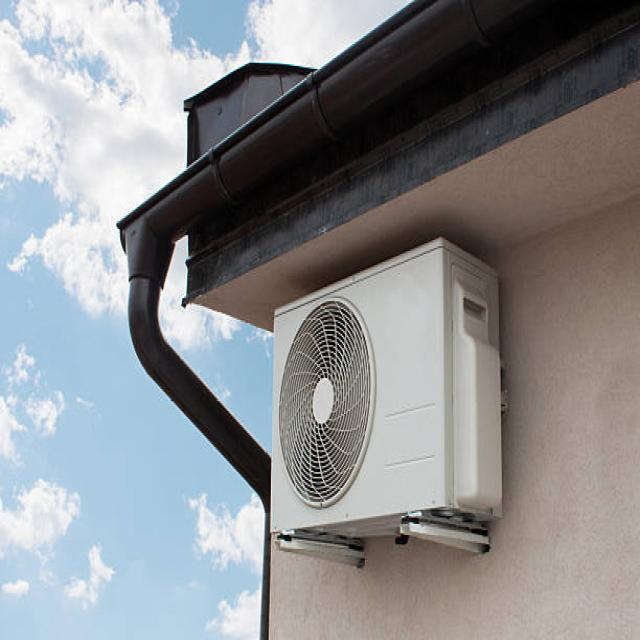Fan: (272, 235, 503, 543)
